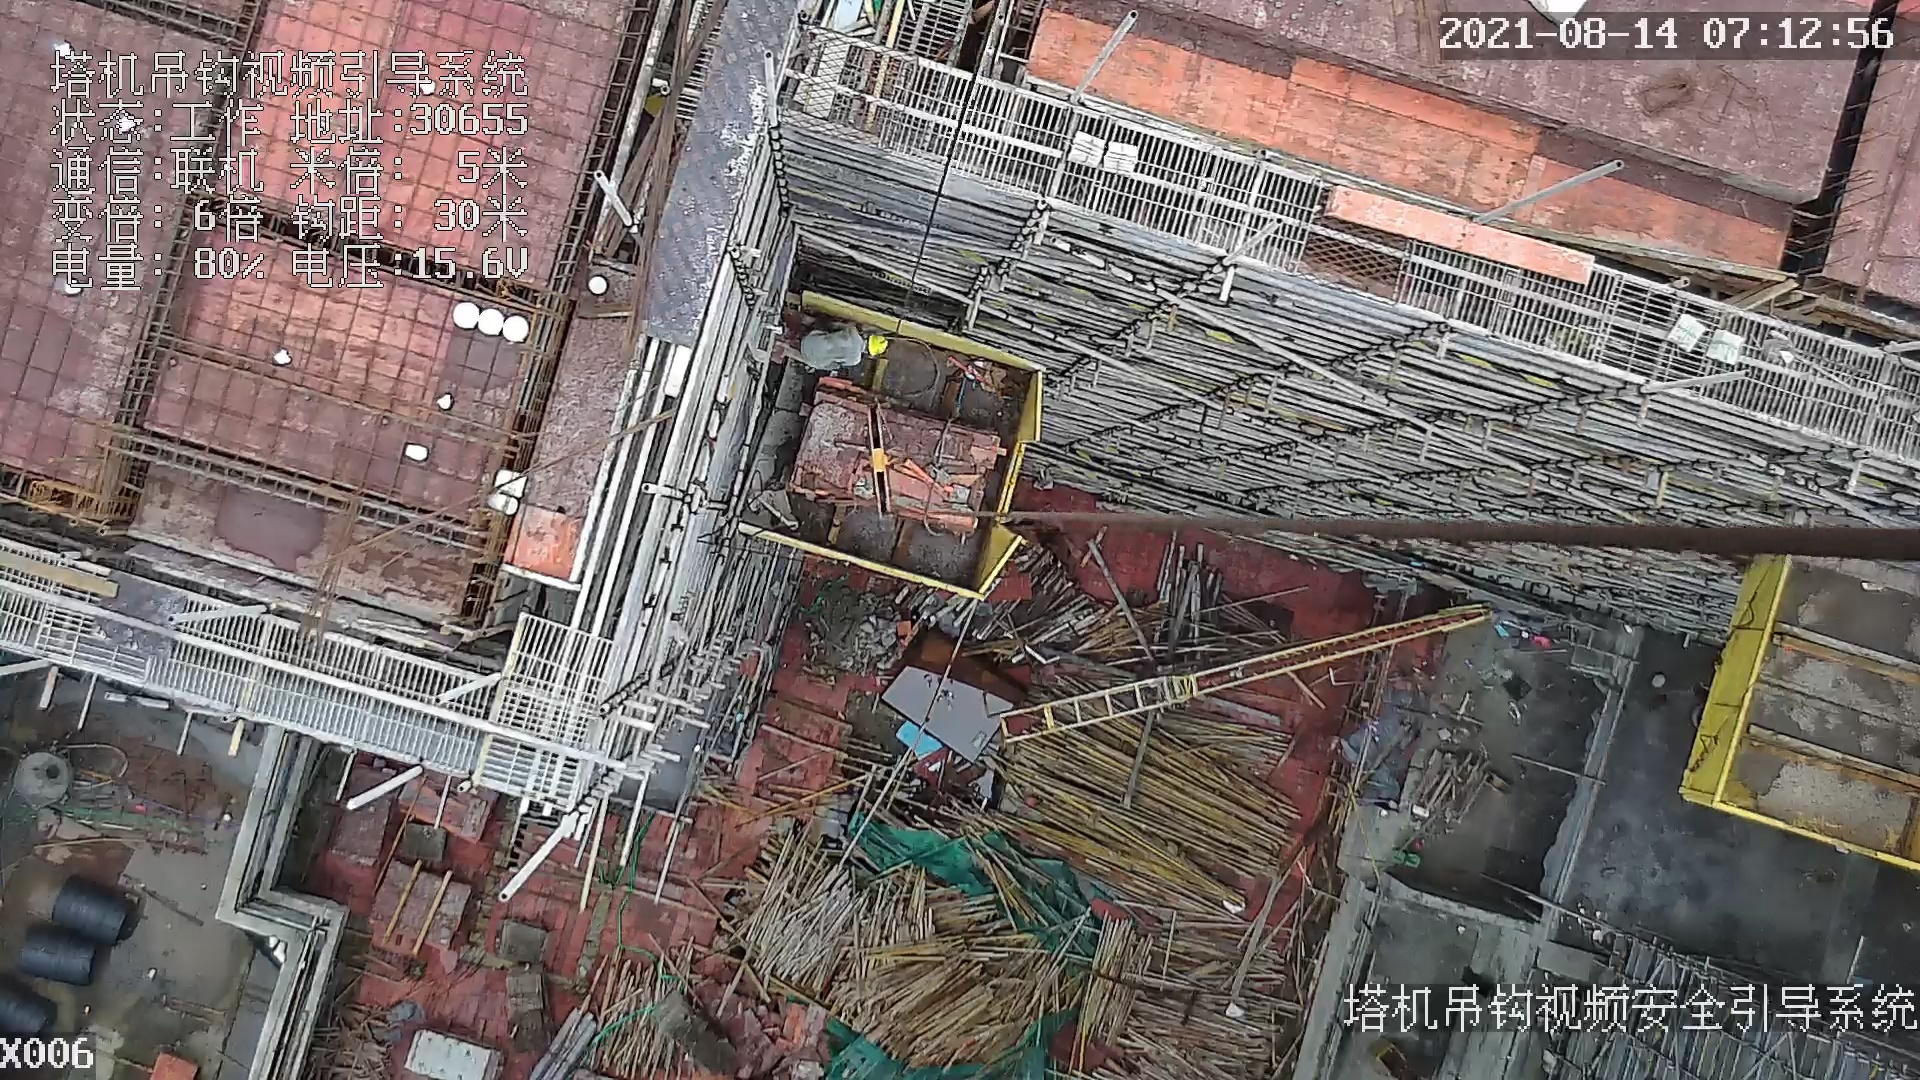helmet: (855, 316, 894, 365)
hook: (862, 403, 896, 522)
person: (812, 322, 892, 377)
